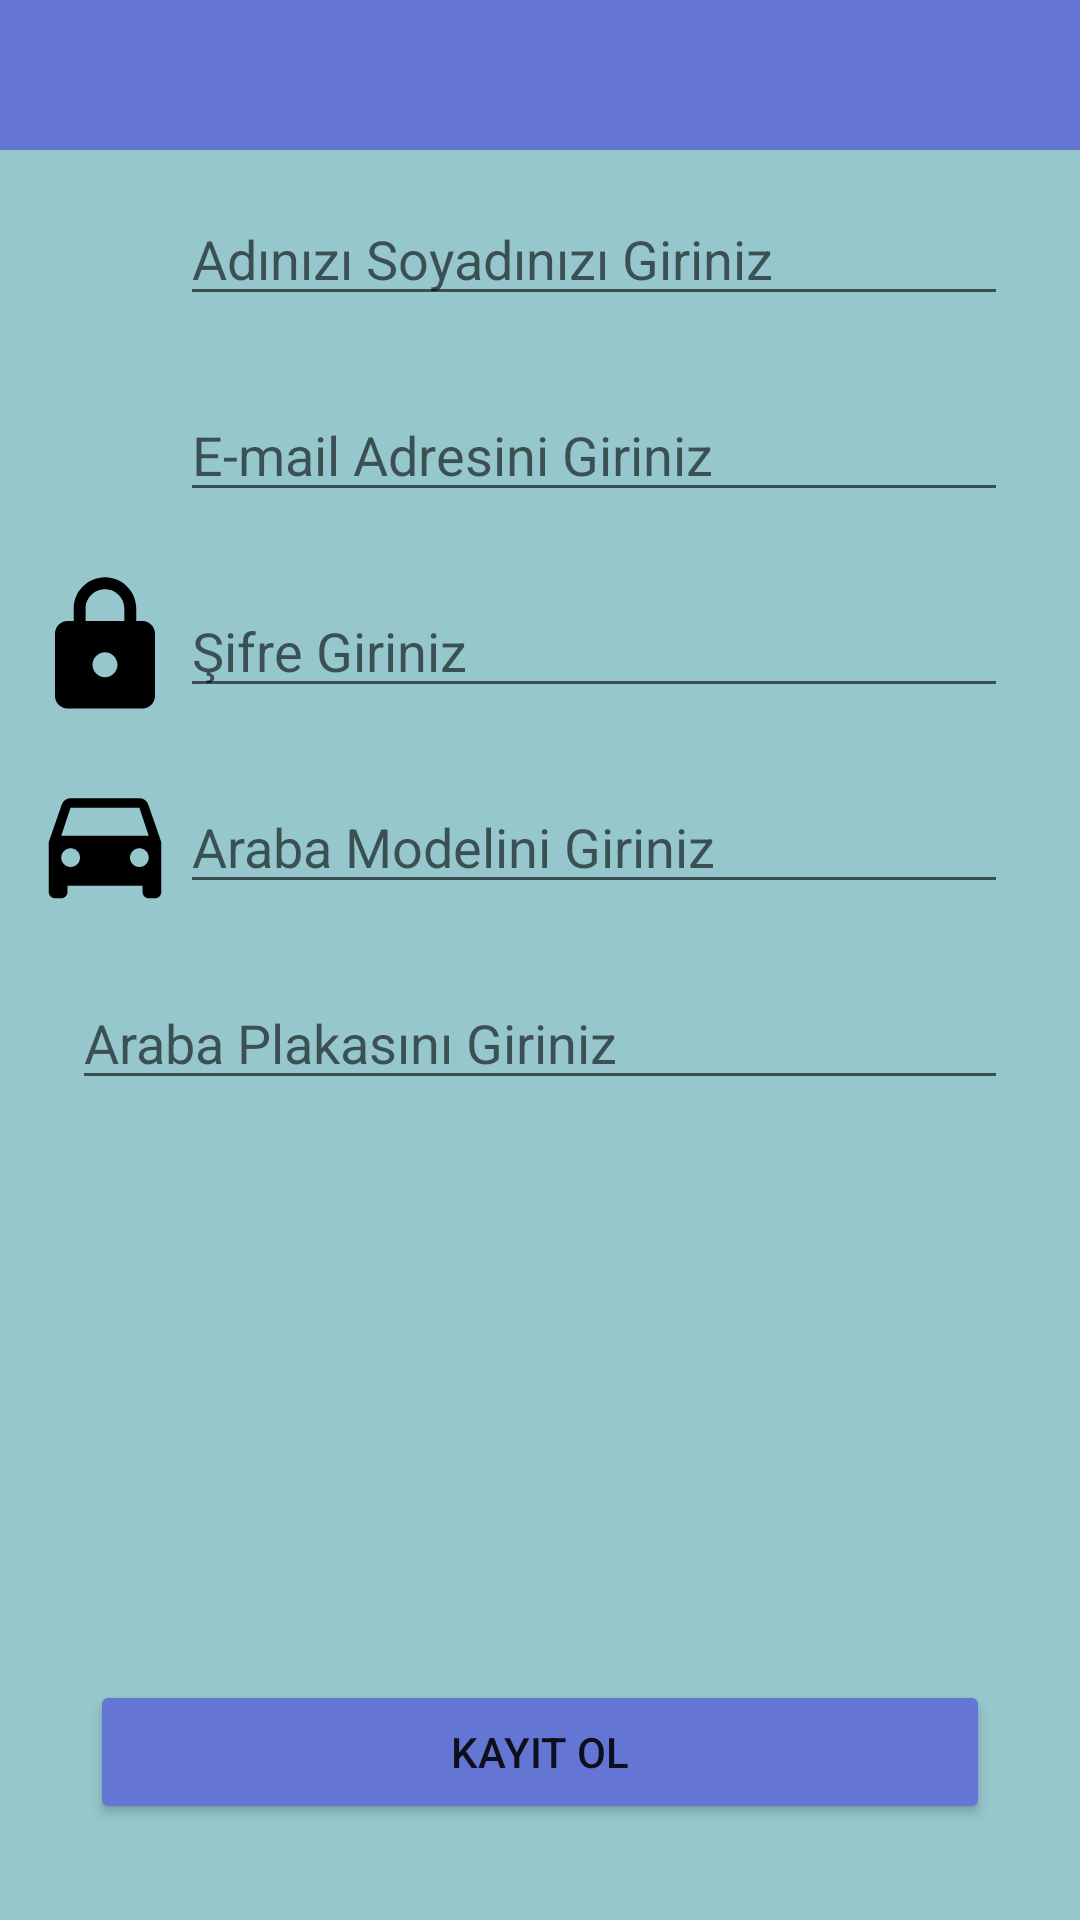

Named icons in this screenshot (1080x1920) and their centers, (x=x, y=y):
car: (x=105, y=848)
lock: (x=105, y=643)
